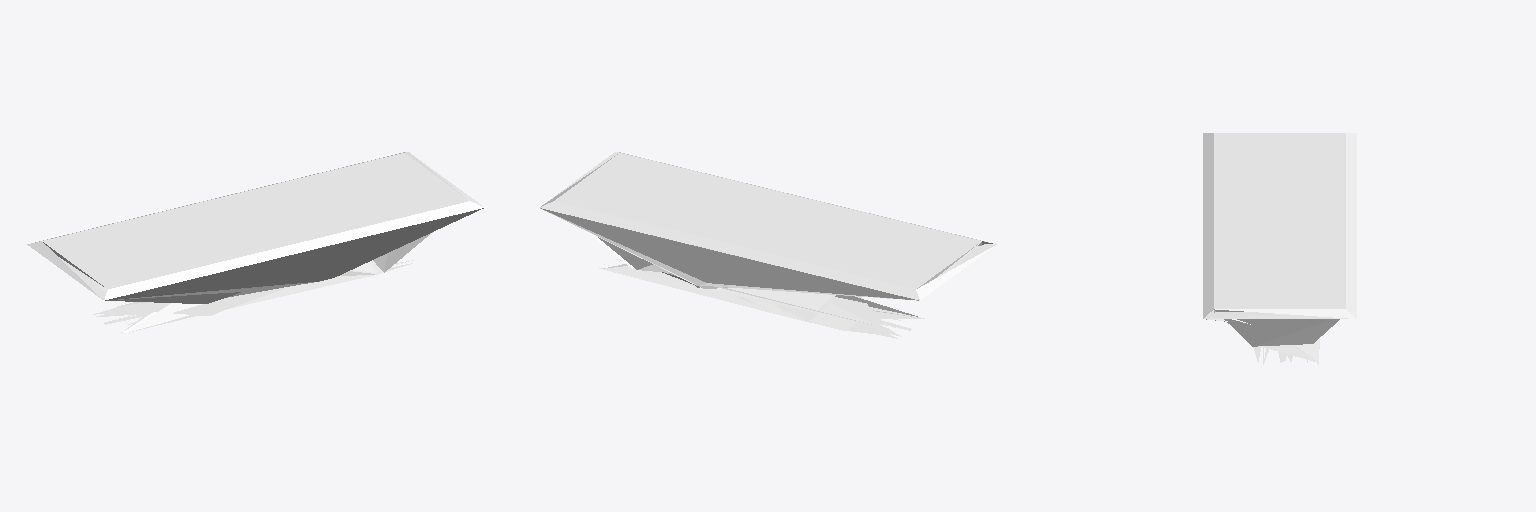
File: room.obj
3 views of the same model, side by side, from view 1: azimuth 30°, elevation 25°; view 2: azimuth 150°, elevation 25°; view 3: azimuth 270°, elevation 25° (orthographic).
Size of the model in its own units: 80 by 14 by 28.